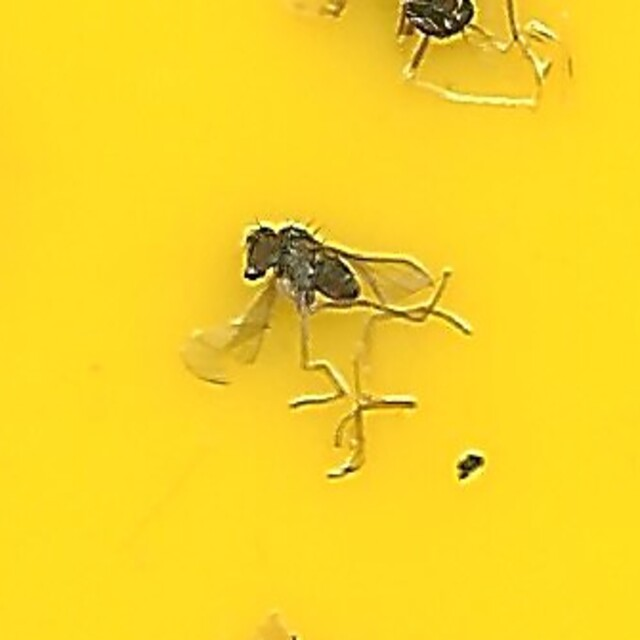Brachycera: (191, 221, 449, 419)
